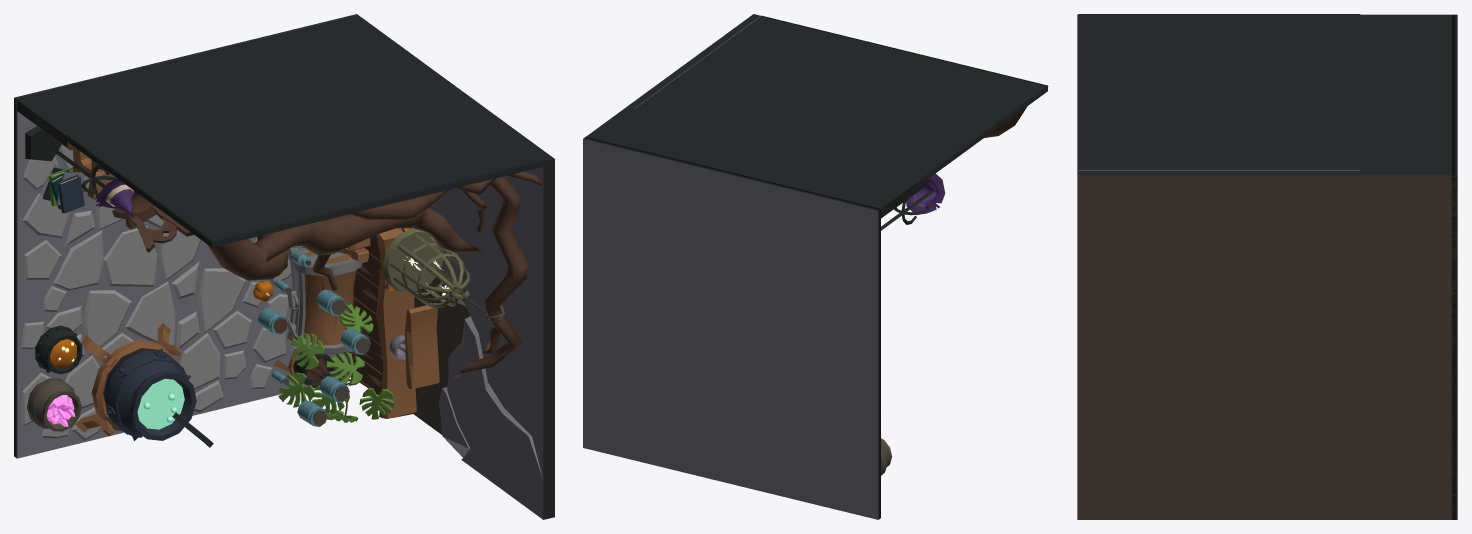
The model's file is final_room.glb.
3 views of the same model, side by side, from view 1: azimuth 30°, elevation 25°; view 2: azimuth 150°, elevation 25°; view 3: azimuth 270°, elevation 25° (orthographic). The views are drawn at different scales.
Visible parts, largest first — view 1: pPlane2, polySurface180, polySurface474, polySurface126, polySurface331, polySurface379, pTorus7, polySurface224, polySurface478, polySurface177, pCube128, pPlane6 (+14 smaller); view 2: polySurface126, pPlane2, pCube128, hat2; view 3: pPlane6, pPlane2, polySurface126, pCube128.
Part boxes in pixels (x1,y1,x2,y2): pPlane2: [18, 16, 554, 242]; polySurface180: [401, 159, 554, 519]; polySurface474: [21, 144, 303, 440]; polySurface126: [14, 14, 359, 458]; polySurface331: [207, 171, 541, 378]; polySurface379: [278, 304, 394, 422]; pTorus7: [287, 247, 362, 354]; polySurface224: [103, 350, 196, 440]; polySurface478: [382, 228, 470, 308]; polySurface177: [376, 228, 416, 418]; pCube128: [65, 53, 544, 247]; pPlane6: [413, 159, 554, 517]; polySurface126: [583, 137, 880, 519]; pPlane2: [586, 14, 1048, 208]; pCube128: [634, 15, 1047, 180]; hat2: [906, 173, 945, 214]; pPlane6: [1077, 175, 1457, 519]; pPlane2: [1077, 14, 1451, 175]; polySurface126: [1451, 14, 1457, 519]; pCube128: [1078, 14, 1360, 170].
Bounding box in the file's own units: 3.2 × 3.21 × 3.2.
